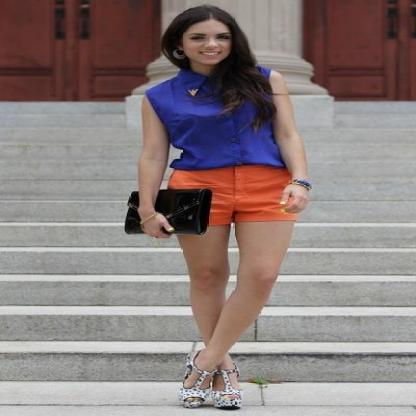bag: (125, 186, 211, 235)
shirt: (145, 58, 280, 171)
shoe: (176, 368, 248, 410)
shorts: (167, 158, 292, 225)
